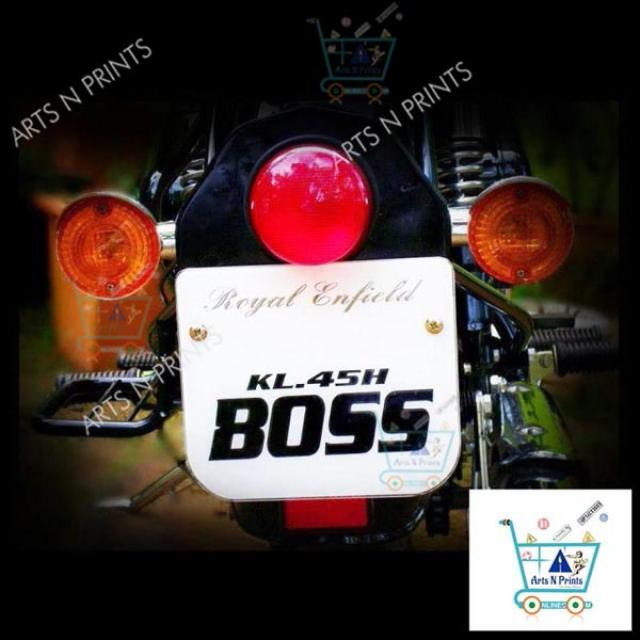license_plate: (172, 255, 463, 501)
